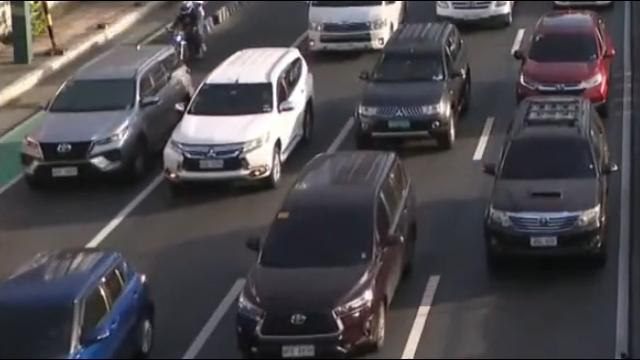car: (234, 151, 422, 355), (18, 47, 194, 184), (161, 46, 322, 189), (481, 97, 622, 255), (0, 247, 155, 360), (352, 19, 477, 153), (513, 4, 612, 118), (435, 1, 516, 30)
motorcycle: (170, 0, 218, 65)
van: (305, 1, 405, 54)
